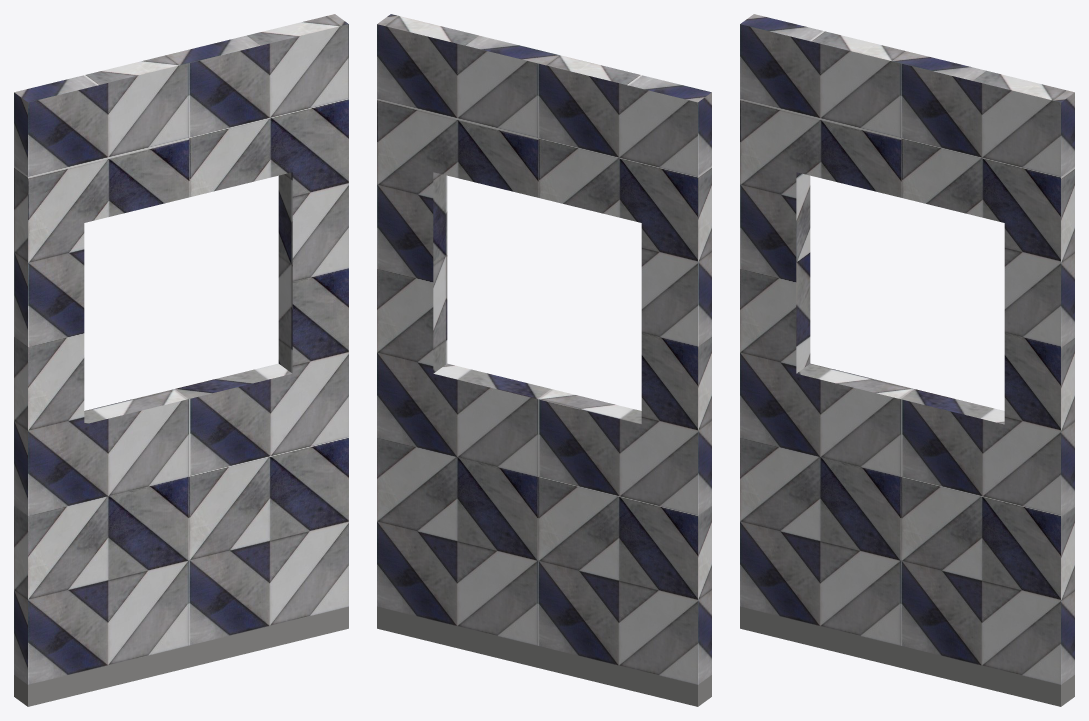
File: ARC0210032.fbx
The picture shows the model from 3 angles, left to right: view 1: azimuth 30°, elevation 25°; view 2: azimuth 150°, elevation 25°; view 3: azimuth 330°, elevation 25°; orthographic projection.
Visible parts, largest first — view 1: smARC0210032; view 2: smARC0210032; view 3: smARC0210032.
Boxes of the visible parts, x1,y1,x2,y2 form: smARC0210032: [14, 14, 348, 706]; smARC0210032: [377, 14, 711, 706]; smARC0210032: [740, 14, 1074, 706].
Bounding box in the file's own units: 182 × 328 × 13.67.
Materials: 1 (1 with a texture image).
